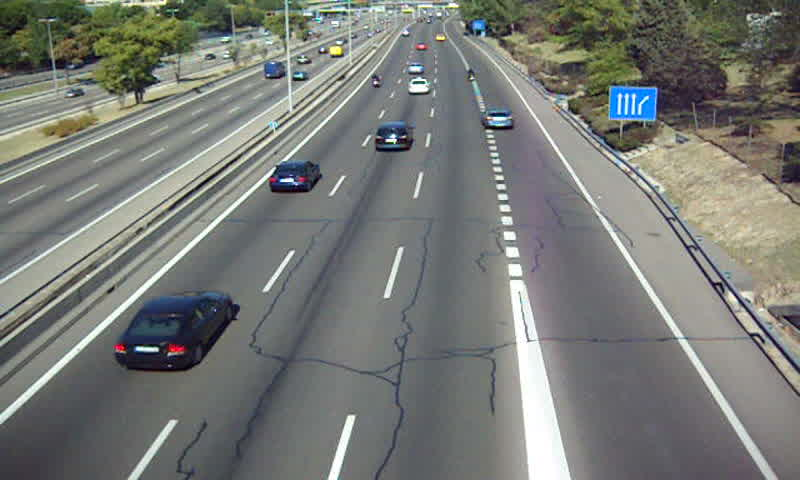car: (115, 291, 232, 370), (268, 160, 321, 192), (374, 122, 414, 152), (480, 108, 514, 131), (408, 78, 430, 95), (408, 61, 422, 74)
motorcycle: (466, 68, 478, 84), (371, 70, 380, 91)
